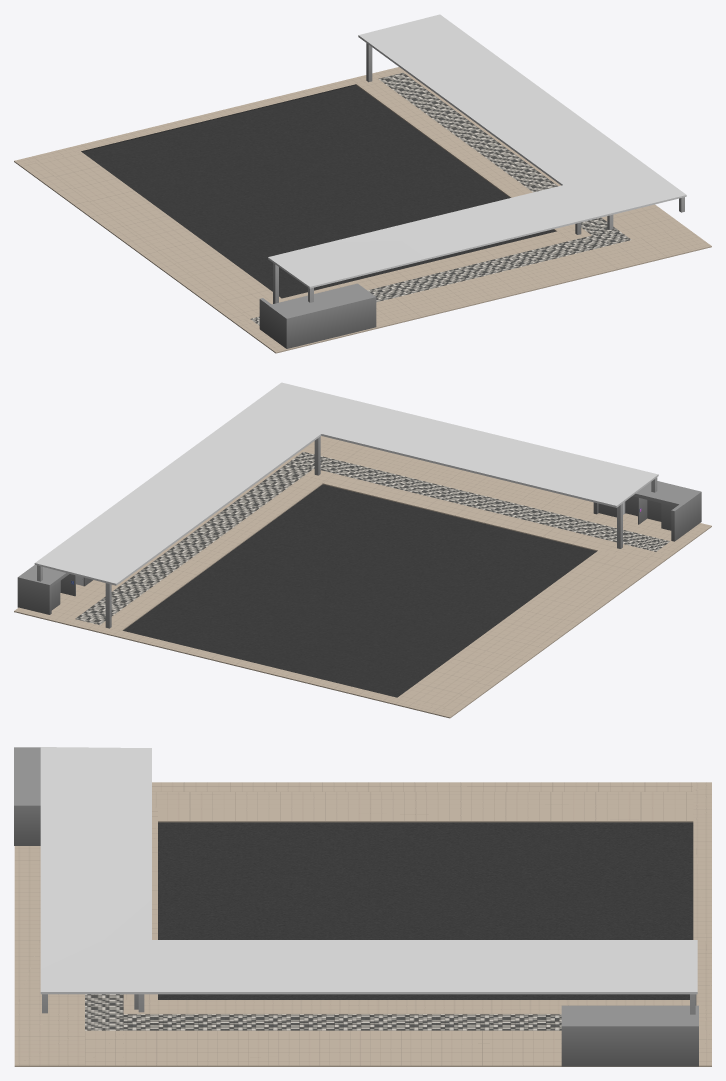
File: KantinSekolahNEW.fbx
3 renders of one model, top to bottom at view 1: azimuth 30°, elevation 25°; view 2: azimuth 150°, elevation 25°; view 3: azimuth 270°, elevation 25°, orthographic. The views are drawn at different scales.
Visible parts, largest first — view 1: KantinGround, WallKantin1, WC1, WallKantin2; view 2: KantinGround, WallKantin1, WC1, WC2, WallKantin2; view 3: KantinGround, WallKantin1, WC2, WC1.
Part boxes in pixels (x1,y1,x2,y2): KantinGround: [14, 67, 711, 353]; WallKantin1: [268, 14, 686, 302]; WC1: [268, 283, 376, 348]; WallKantin2: [273, 43, 581, 303]; KantinGround: [14, 436, 711, 718]; WallKantin1: [34, 382, 658, 585]; WC1: [593, 481, 701, 534]; WC2: [17, 565, 92, 614]; WallKantin2: [105, 436, 622, 628]; KantinGround: [14, 782, 711, 1066]; WallKantin1: [40, 747, 697, 1014]; WC2: [561, 1005, 698, 1066]; WC1: [14, 747, 40, 845].
Size of what is drawn, in the model's own units: 6852 by 739 by 7117.
